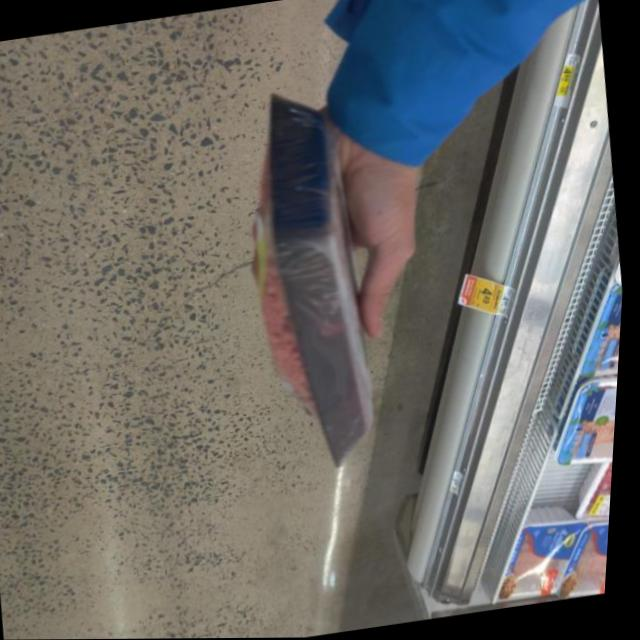Meat: (214, 74, 416, 478), (489, 507, 594, 602), (548, 378, 622, 472), (556, 515, 616, 602), (573, 455, 619, 526)
